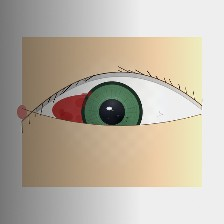hemorrhage_spot: (39, 72, 135, 149)
